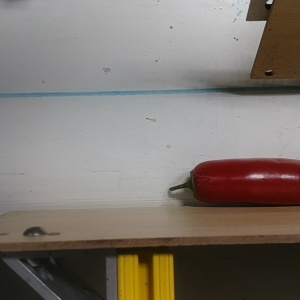Cut Point: (181, 160, 210, 204)
